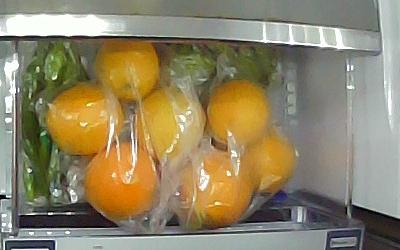orange_vinyl: (131, 84, 206, 163), (46, 80, 123, 156), (83, 140, 158, 216), (177, 150, 252, 226), (93, 39, 159, 101), (236, 126, 295, 194), (207, 79, 268, 143)
